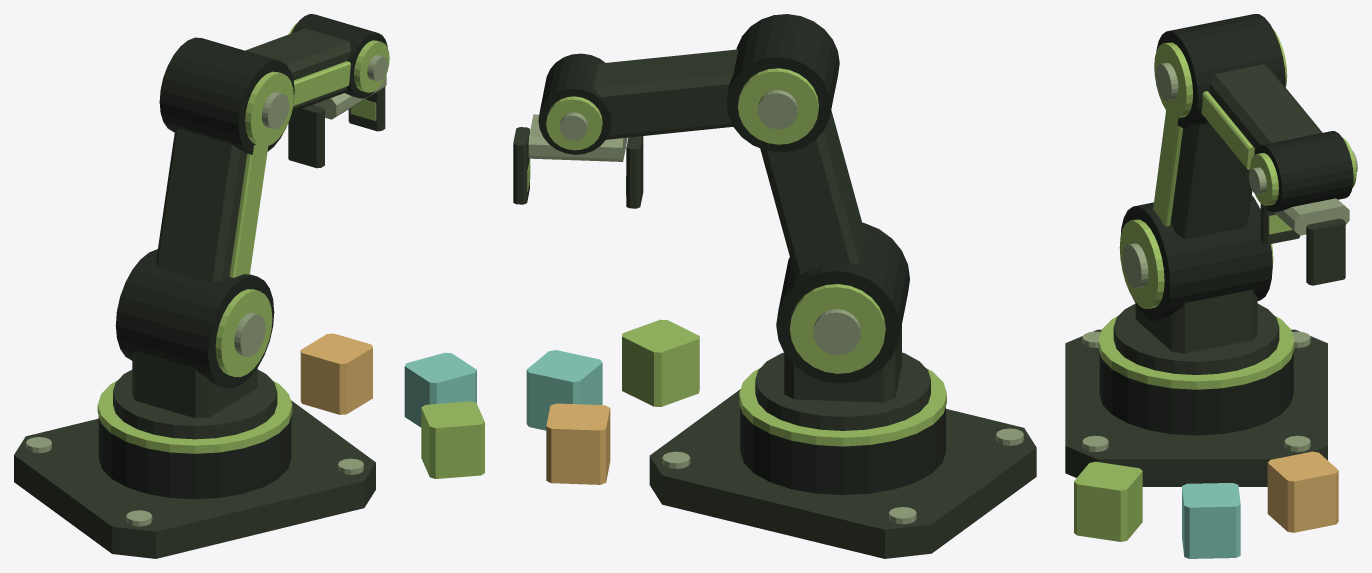
The model's file is robot.obj.
3 views of the same model, side by side, from view 1: azimuth 30°, elevation 25°; view 2: azimuth 150°, elevation 25°; view 3: azimuth 270°, elevation 25° (orthographic). The views are drawn at different scales.
Parts seen in each view (by area): view 1: robot; view 2: robot; view 3: robot.
Part boxes in pixels (<box>): robot: <box>14,14,484,558</box>; robot: <box>513,14,1036,558</box>; robot: <box>1065,14,1357,558</box>.
Size of the model in its own units: 2.36 by 2.28 by 1.45.
